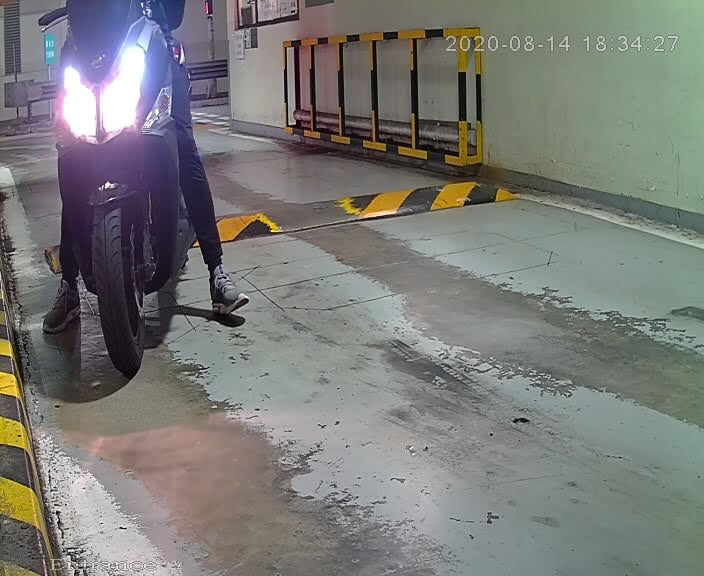motorcycle: (16, 1, 252, 387)
